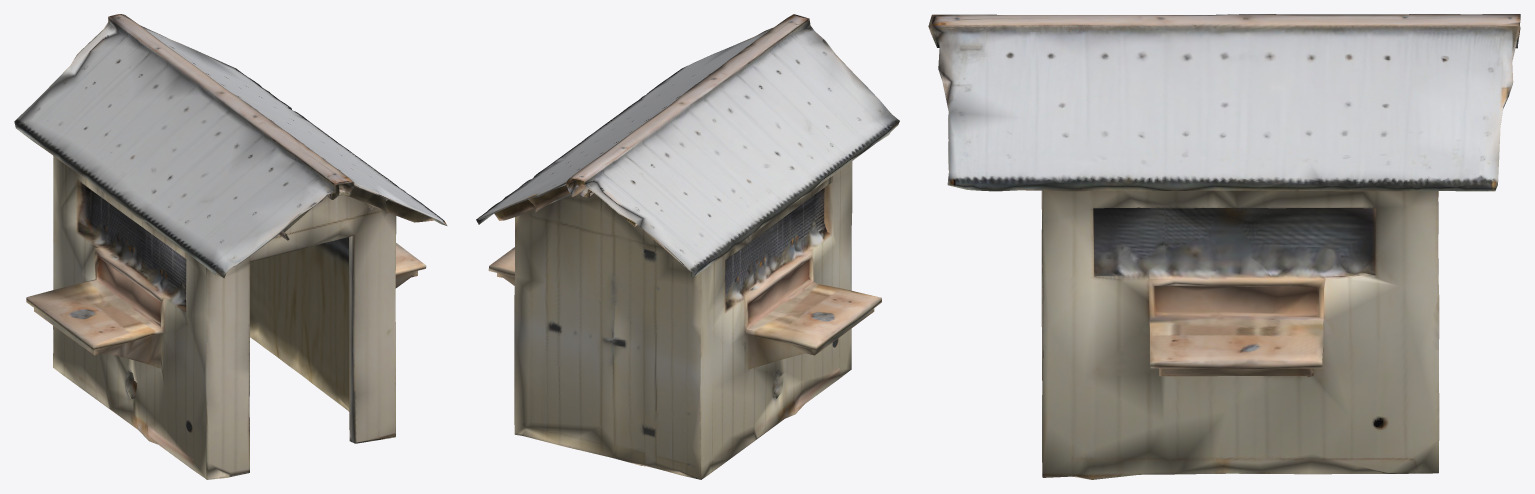
Rendered from TheLoft.glb.
3 views of the same model, side by side, from view 1: azimuth 30°, elevation 25°; view 2: azimuth 150°, elevation 25°; view 3: azimuth 270°, elevation 25° (orthographic). The views are drawn at different scales.
Bounding box in the file's own units: 1.68 × 1.5 × 2.
Materials: 1 (1 with a texture image).
